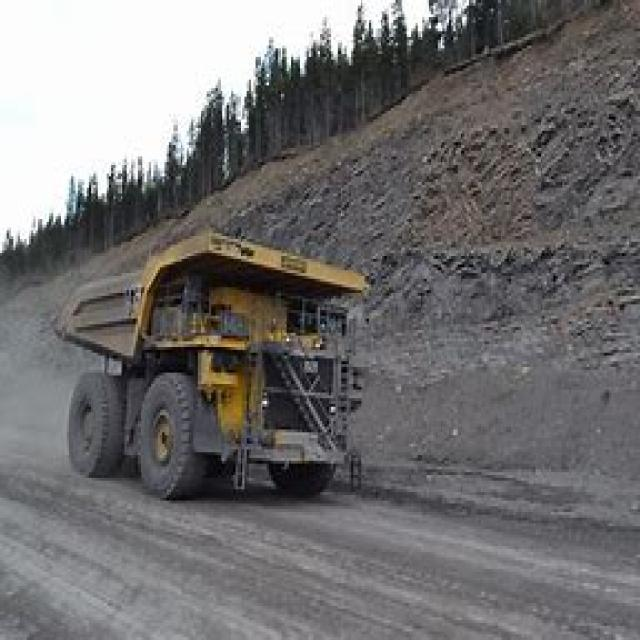dump_truck: (33, 213, 367, 515)
